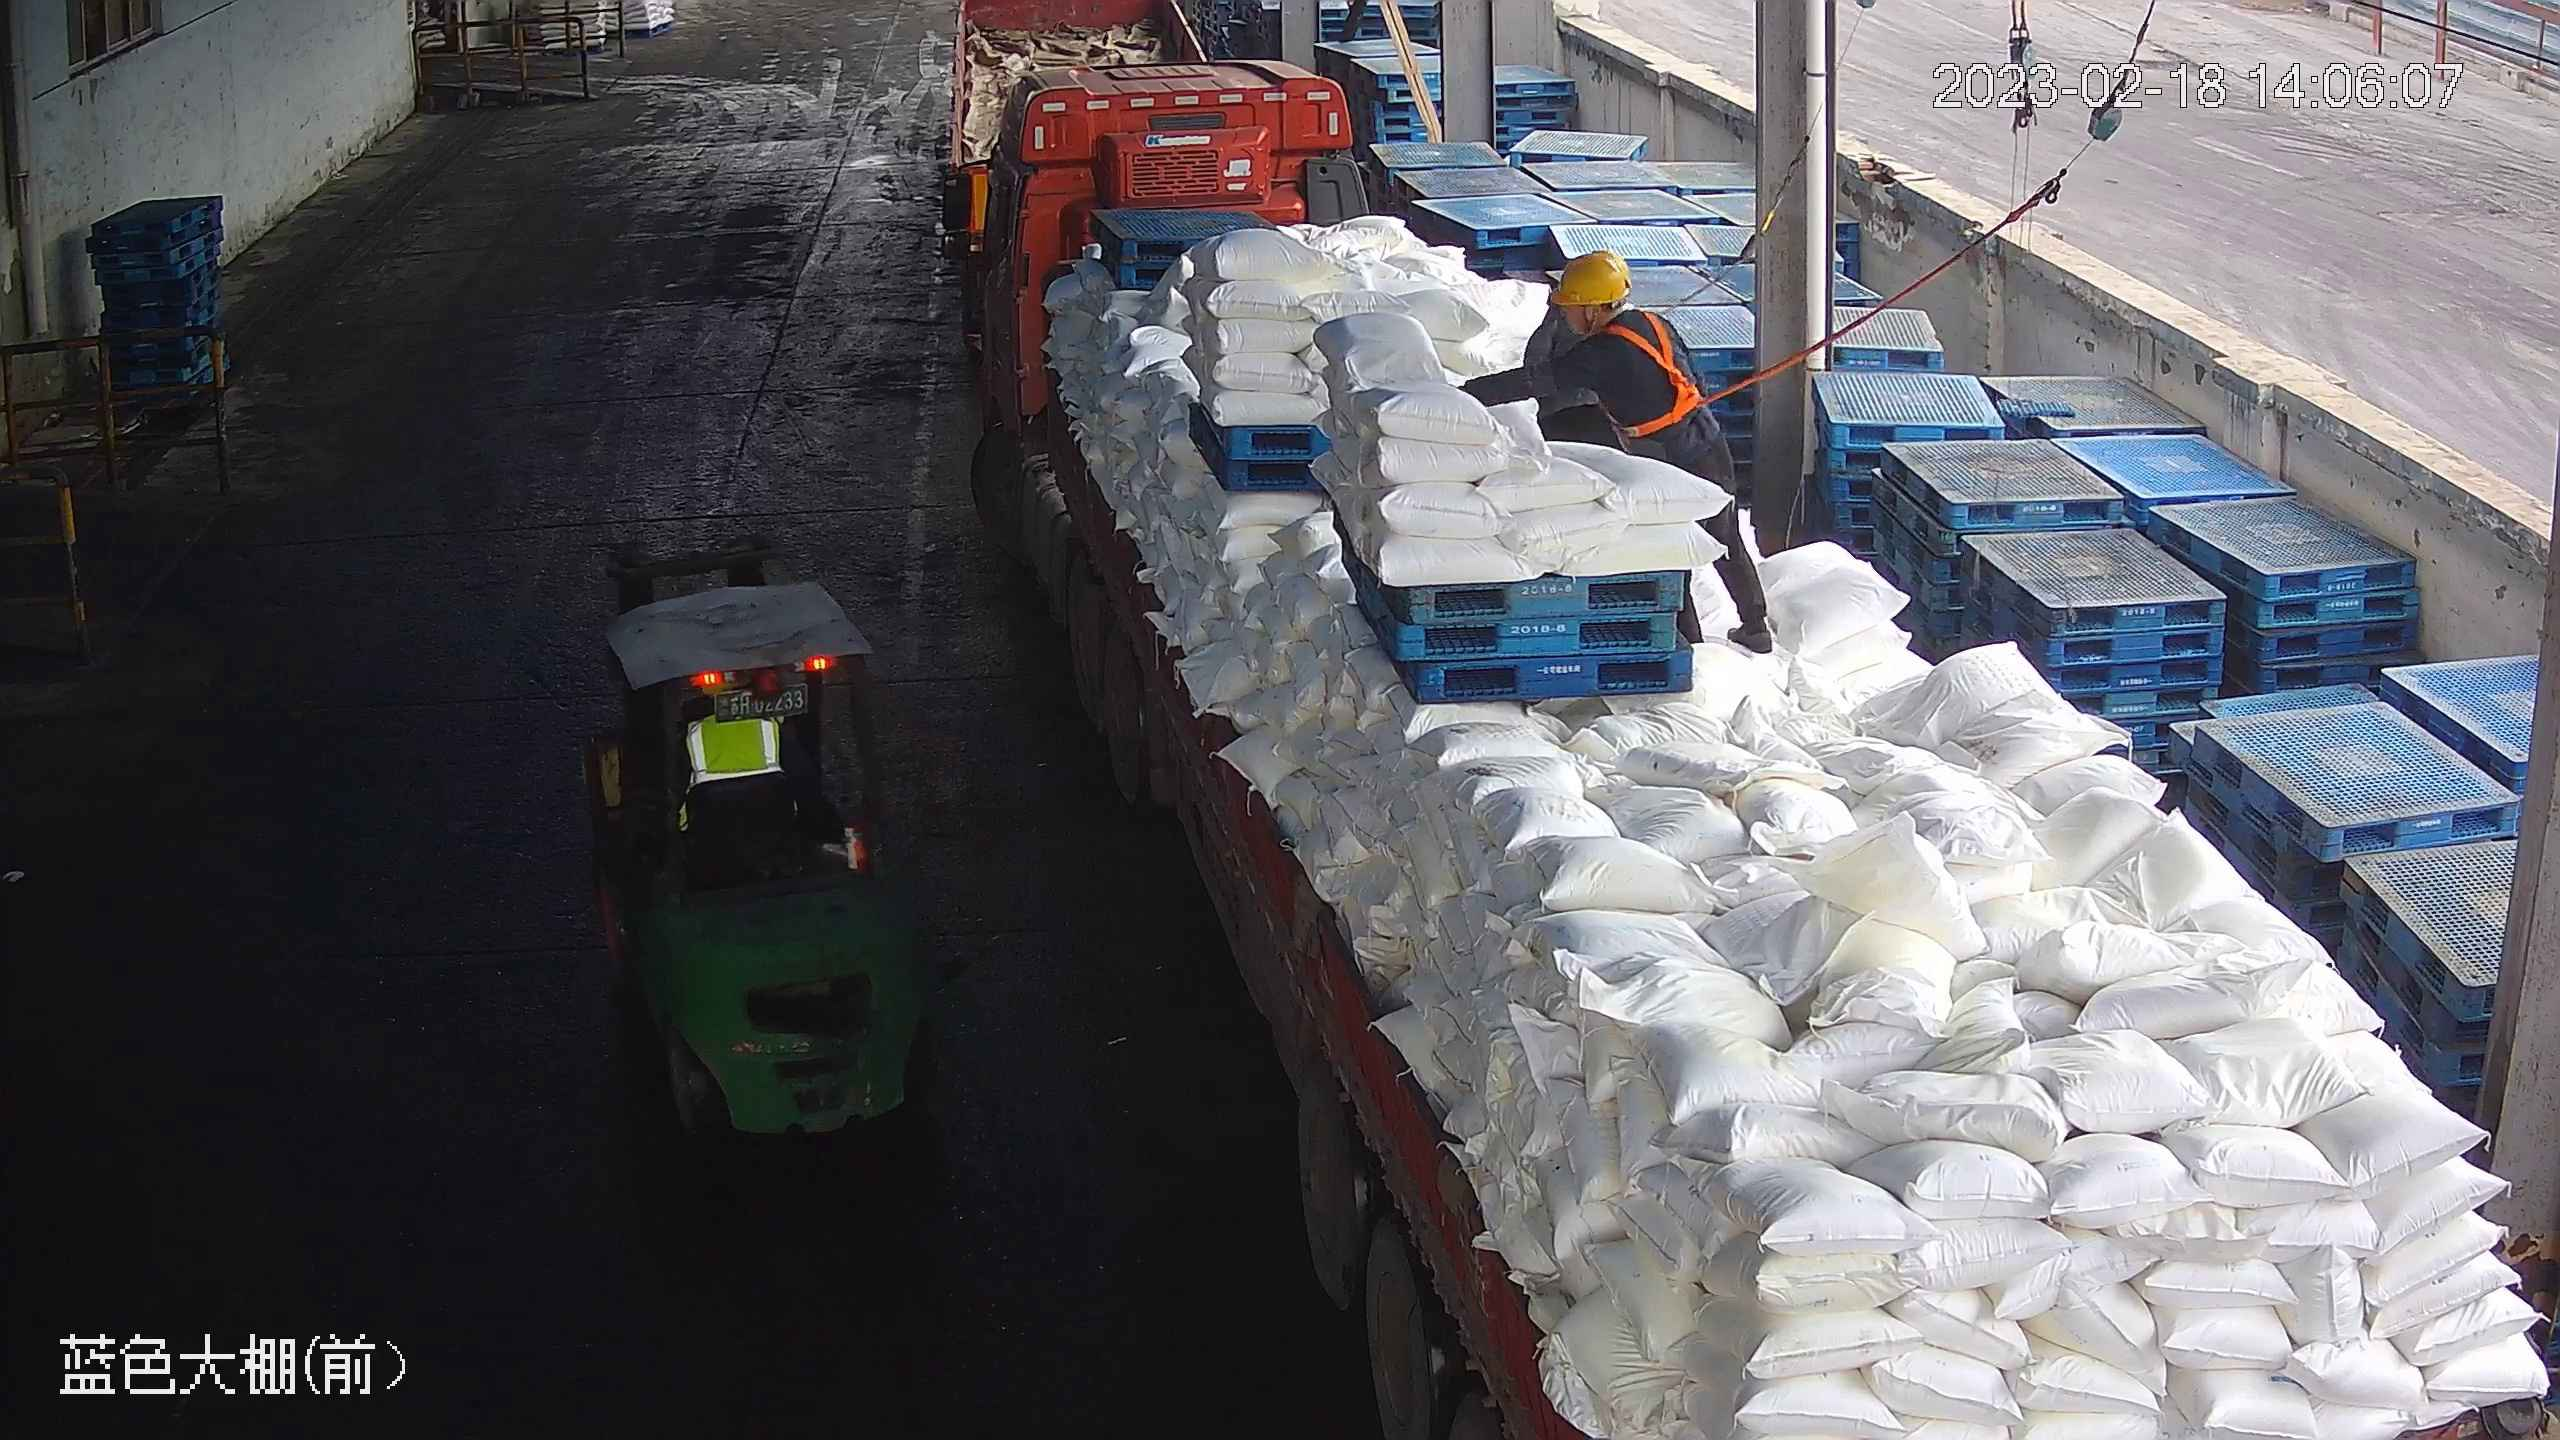belt: (1597, 314, 1711, 443)
head: (1537, 247, 1685, 376)
helmet: (1545, 248, 1631, 305)
people: (1442, 243, 1778, 663)
truck: (960, 47, 2548, 1440)
